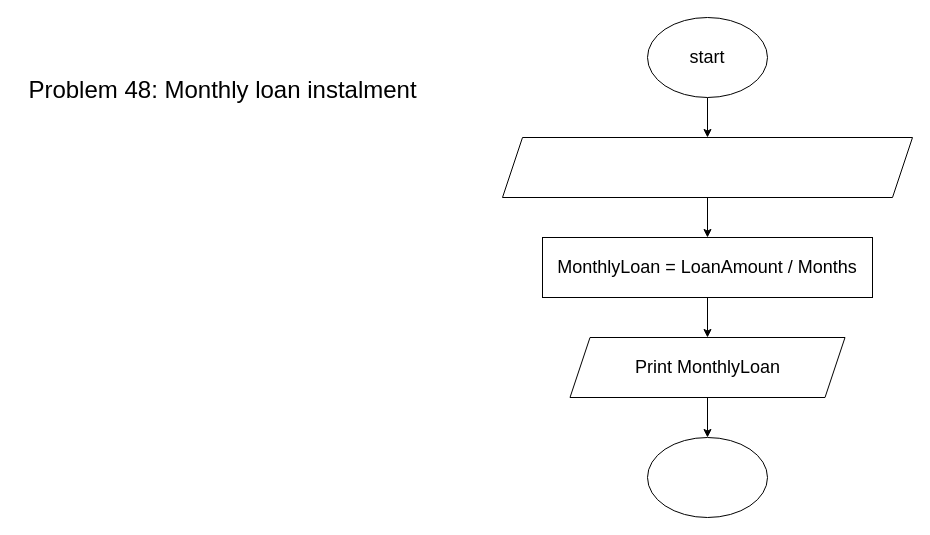
Image size: 930x535. Some labels were removed from this diagram. The centre of each missing label's shape, as x and y in pixels:
End: (707,477)
Read LoanAmount, Months: (707,167)
